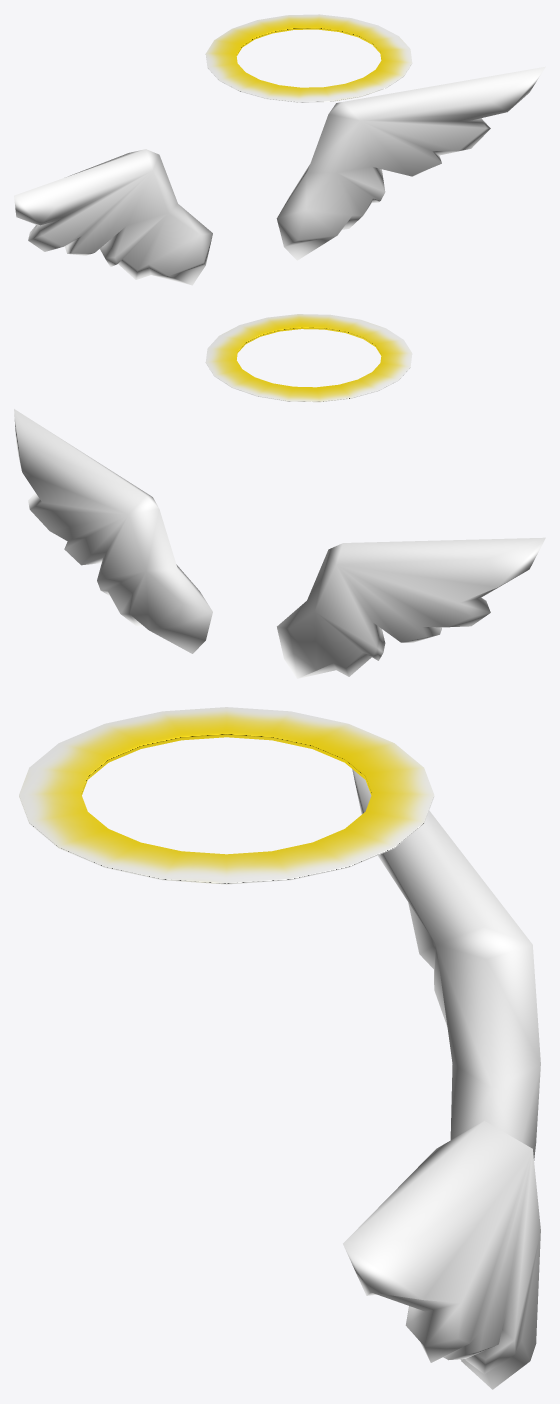
File: LittleGhost_Angel.fbx
The picture shows the model from 3 angles, top to bottom: view 1: azimuth 30°, elevation 25°; view 2: azimuth 150°, elevation 25°; view 3: azimuth 270°, elevation 25°; orthographic projection. The views are drawn at different scales.
Parts seen in each view (by area): view 1: Kid_ghost_v1:Angel_Wing1, Kid_ghost_v1:Angel_Wing2, Kid_ghost_v1:Angel_Circle; view 2: Kid_ghost_v1:Angel_Wing2, Kid_ghost_v1:Angel_Wing1, Kid_ghost_v1:Angel_Circle; view 3: Kid_ghost_v1:Angel_Wing1, Kid_ghost_v1:Angel_Circle, Kid_ghost_v1:Angel_Wing2.
Part boxes in pixels (left/top/right/bottom): Kid_ghost_v1:Angel_Wing1: left=276, top=66, right=545, bottom=260; Kid_ghost_v1:Angel_Wing2: left=14, top=149, right=212, bottom=285; Kid_ghost_v1:Angel_Circle: left=205, top=14, right=412, bottom=102; Kid_ghost_v1:Angel_Wing2: left=277, top=537, right=545, bottom=678; Kid_ghost_v1:Angel_Wing1: left=14, top=409, right=212, bottom=653; Kid_ghost_v1:Angel_Circle: left=205, top=314, right=412, bottom=402; Kid_ghost_v1:Angel_Wing1: left=343, top=1121, right=540, bottom=1389; Kid_ghost_v1:Angel_Circle: left=19, top=707, right=434, bottom=884; Kid_ghost_v1:Angel_Wing2: left=352, top=769, right=540, bottom=1160.
Size of the model in its own units: 3.34 by 1.58 by 1.42.
